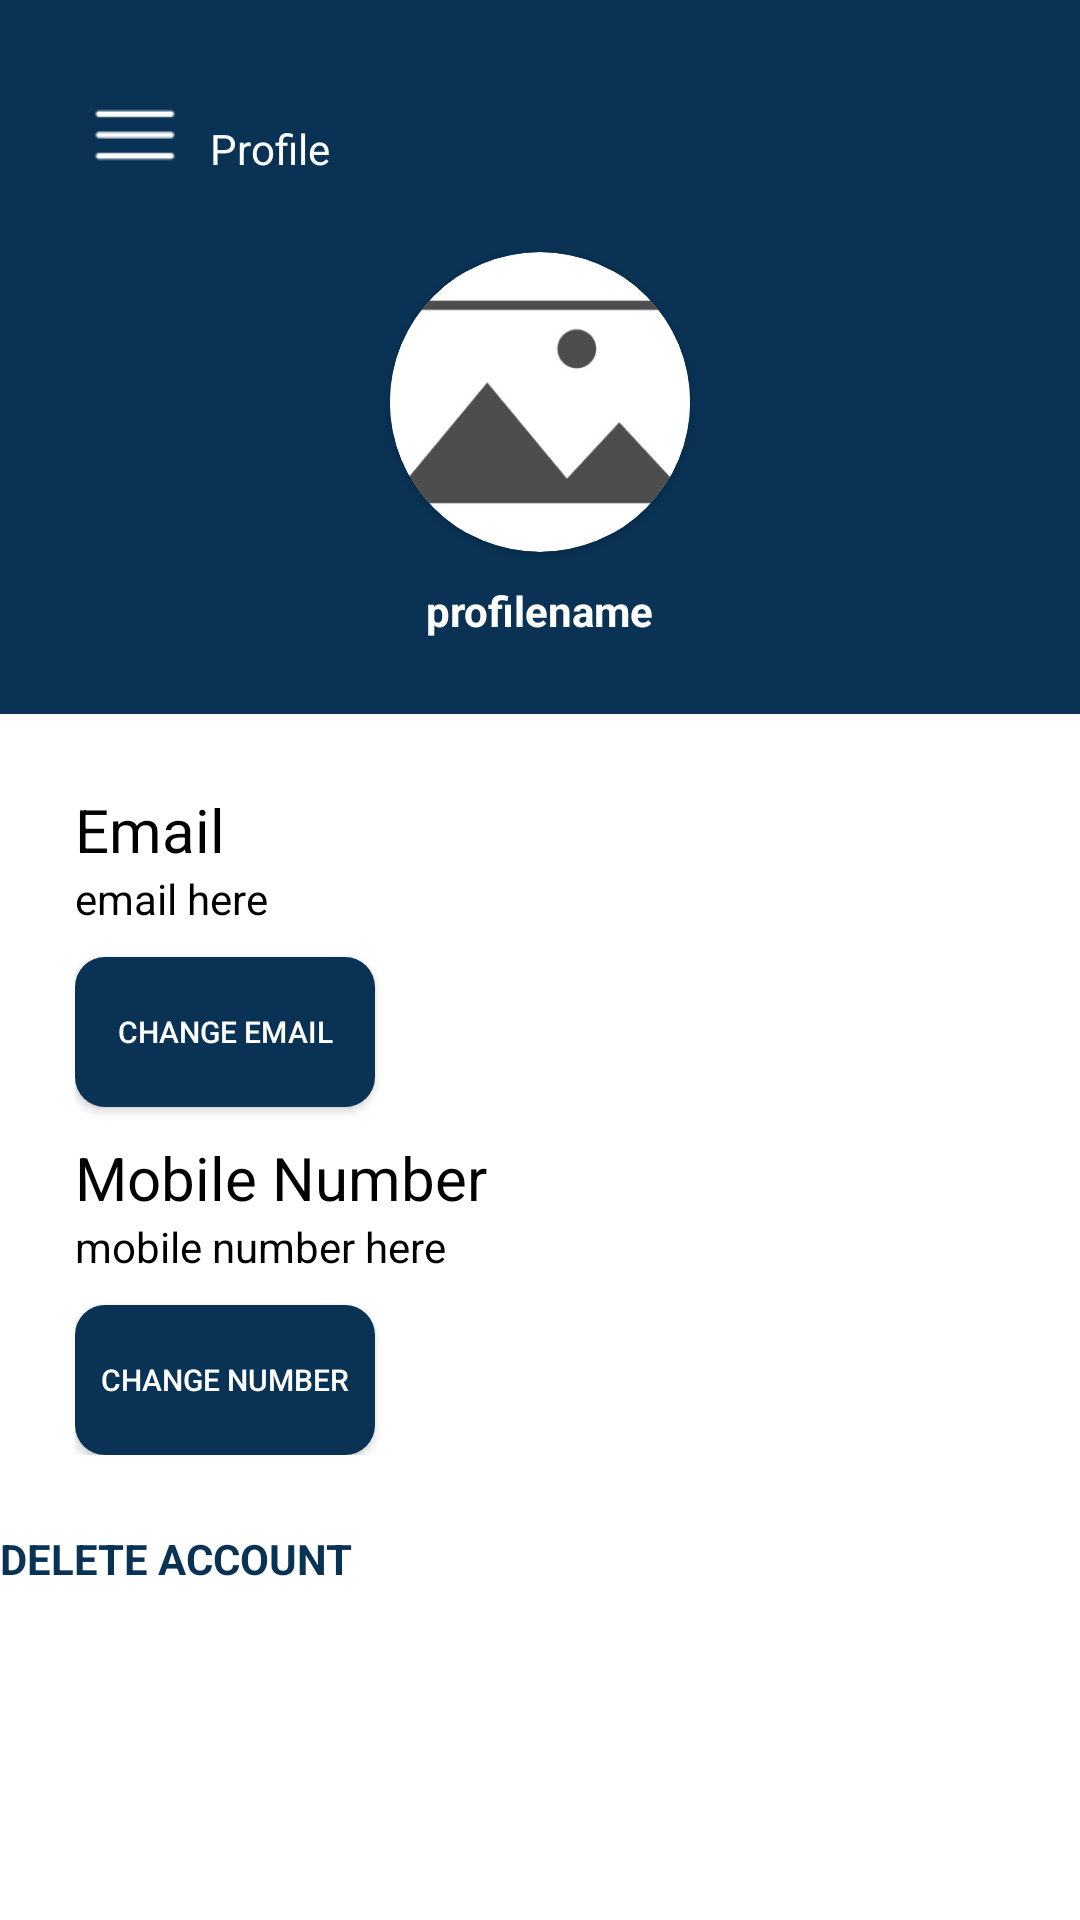

Where to tap for icons on this 1080w x 1920h app screen, as point (x, y):
burger: point (135, 135)
